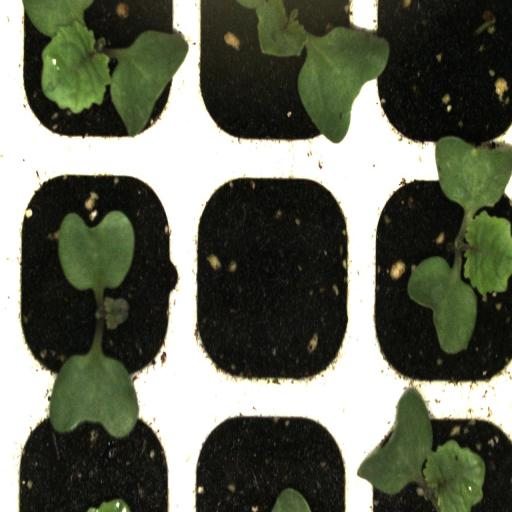noseedling: (182, 162, 361, 394), (365, 0, 512, 166)
seedling: (12, 159, 182, 398), (365, 161, 512, 394), (185, 1, 366, 165), (10, 1, 185, 165)
